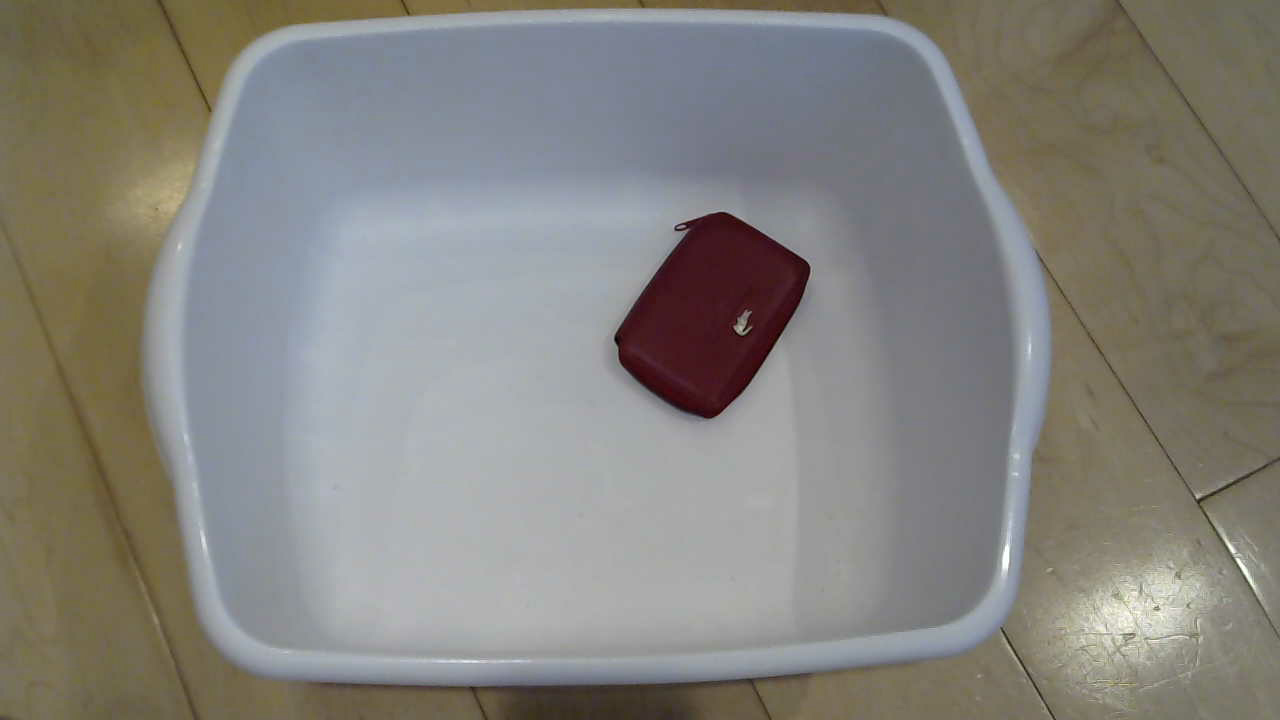wallet: (604, 193, 840, 433)
